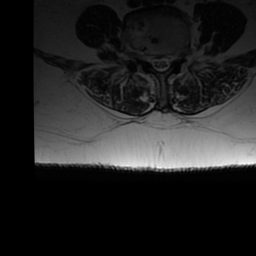CCS_normal: (157, 48, 164, 79)
LFS_normal: (172, 45, 179, 70)
LLS_normal: (164, 47, 172, 75)
RFS_normal: (141, 43, 149, 69)
RLS_normal: (149, 47, 157, 74)
